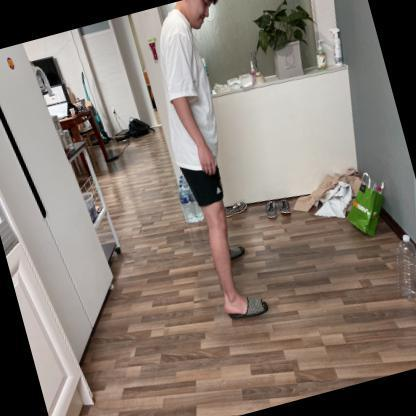no_safety-shoe: (213, 277, 275, 335)
